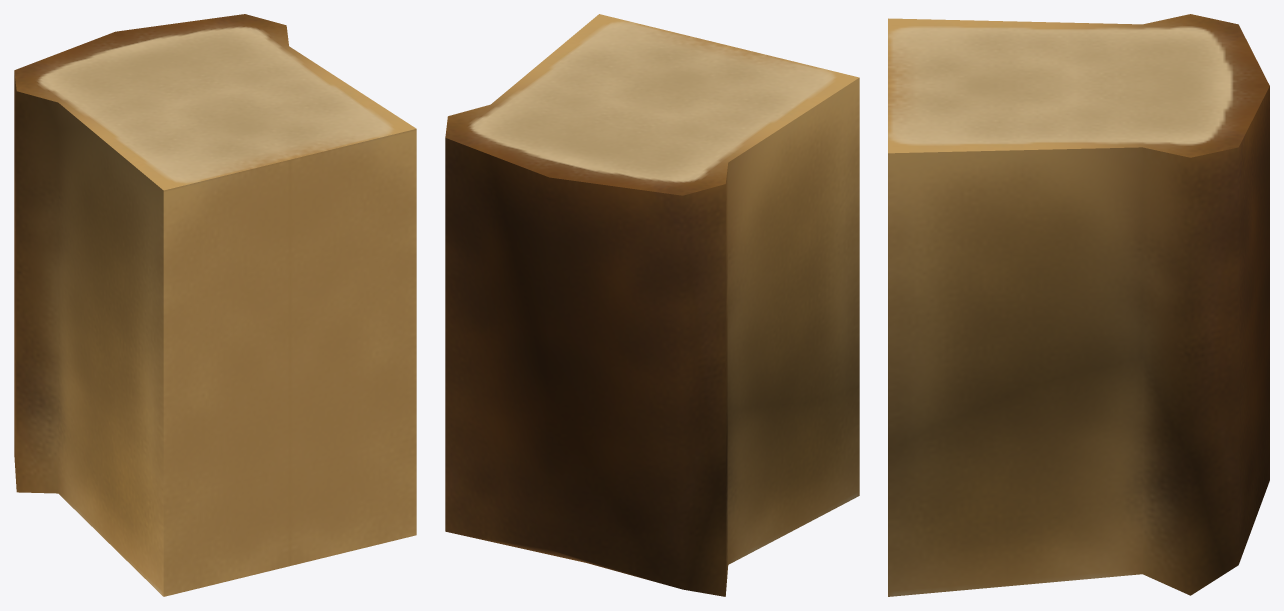
Rendered from Food_bread_2.fbx.
The picture shows the model from 3 angles, left to right: view 1: azimuth 30°, elevation 25°; view 2: azimuth 150°, elevation 25°; view 3: azimuth 270°, elevation 25°; orthographic projection. The views are drawn at different scales.
Parts seen in each view (by area): view 1: Food_bread_2; view 2: Food_bread_2; view 3: Food_bread_2.
Boxes of the visible parts, x1,y1,x2,y2 form: Food_bread_2: (14, 14, 416, 596); Food_bread_2: (445, 14, 859, 596); Food_bread_2: (888, 14, 1269, 596).
Bounding box in the file's own units: 0.1634 × 0.2351 × 0.1833.
